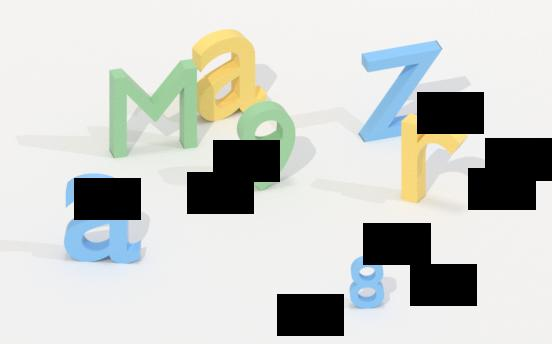8: (347, 252, 387, 310)
9: (236, 97, 300, 191)
M-hoa: (107, 59, 201, 156)
R: (398, 109, 469, 209)
a: (60, 169, 143, 269), (190, 25, 272, 126)
z: (357, 36, 446, 144)
